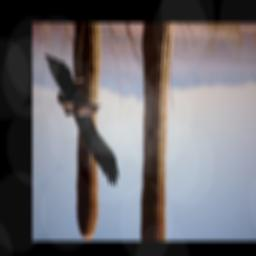Crow: (43, 51, 120, 188)
